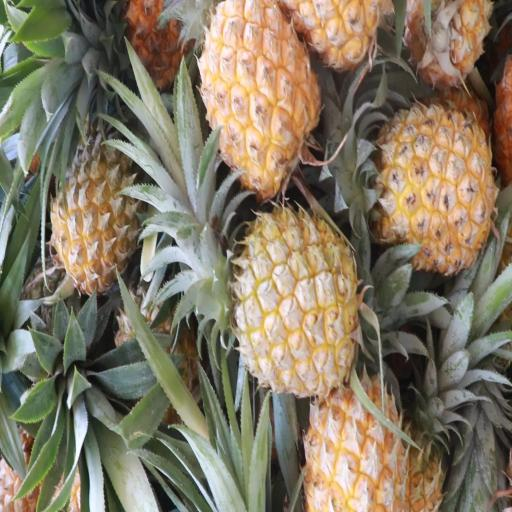Pineapple - v8 v1: (224, 200, 362, 403), (350, 102, 496, 275), (300, 295, 410, 512), (198, 6, 322, 194), (48, 103, 138, 292)
